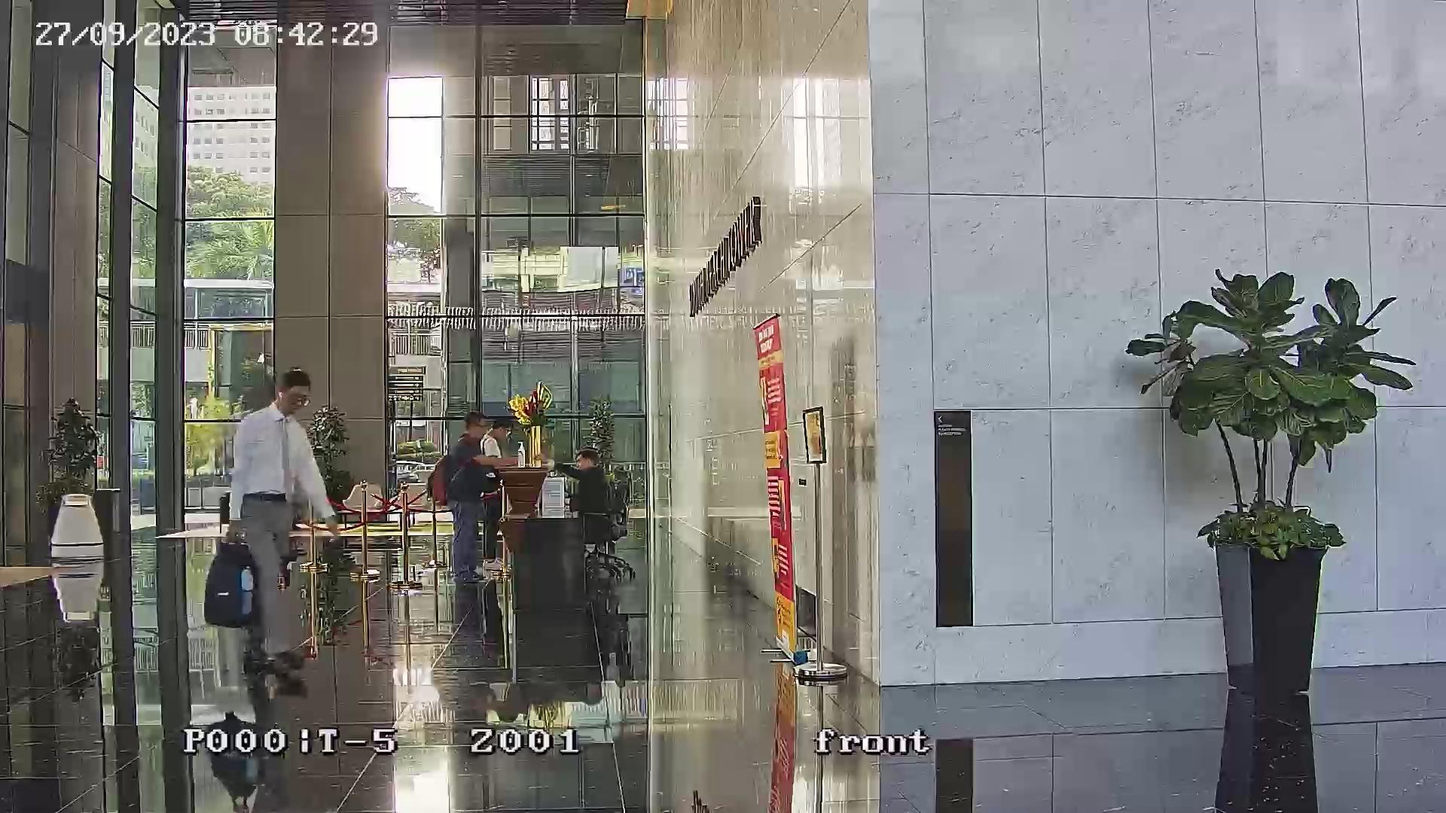person: (229, 367, 338, 661), (445, 405, 512, 583), (572, 443, 630, 551), (481, 418, 510, 574)
